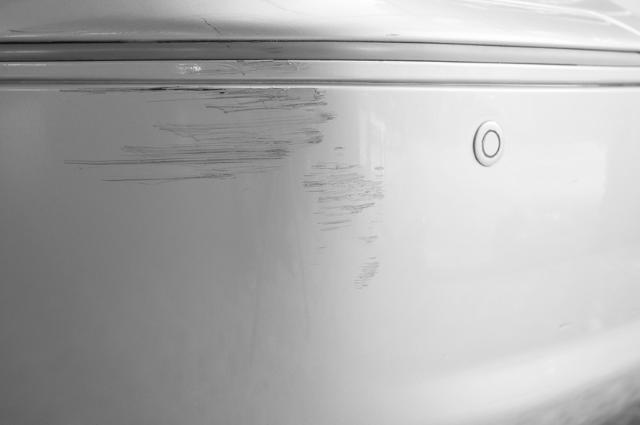Bumper: (38, 44, 433, 293)
